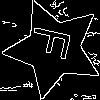F: (29, 23, 81, 64)
